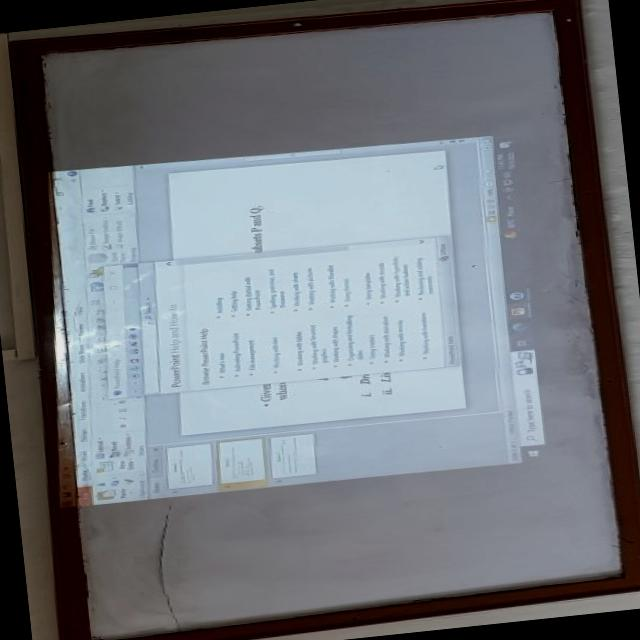Slide: (48, 131, 560, 506)
White-board: (13, 0, 639, 640)
